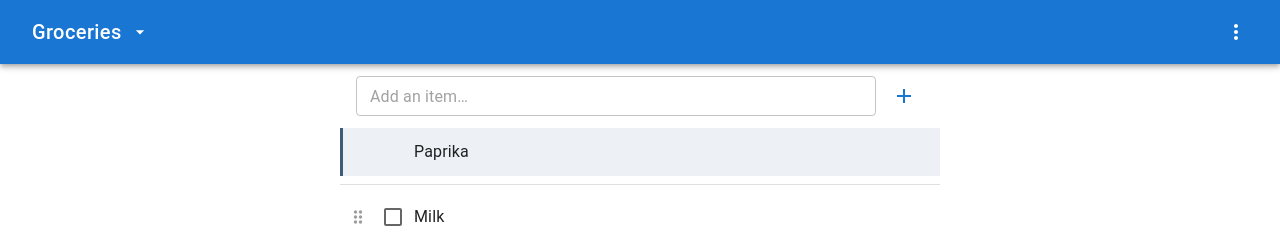
Test: adding a name that is already a note › revives the note as a buyable item instead of just highlighting it
This screenshot has width=1280, height=243.
expect the text "Paprika" is shown: met, box x1=414 y1=142 x2=469 y2=161
Type "paprika" into the field labelled "Add an item". click: (616, 96)
box: x1=356 y1=76 x2=876 y2=116
Then press Enter
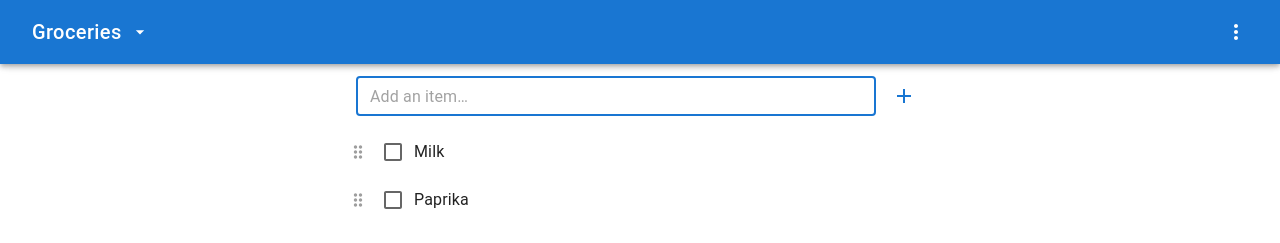
expect the checkbox named "Paprika" is shown: met, box x1=381 y1=188 x2=405 y2=212
